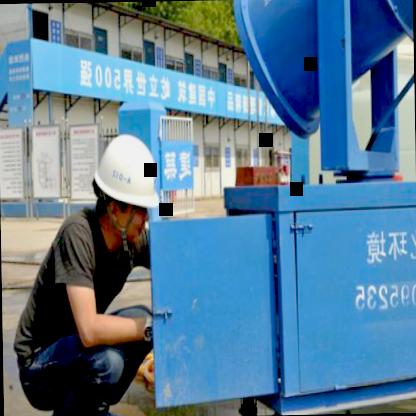helmet: (89, 119, 169, 259)
